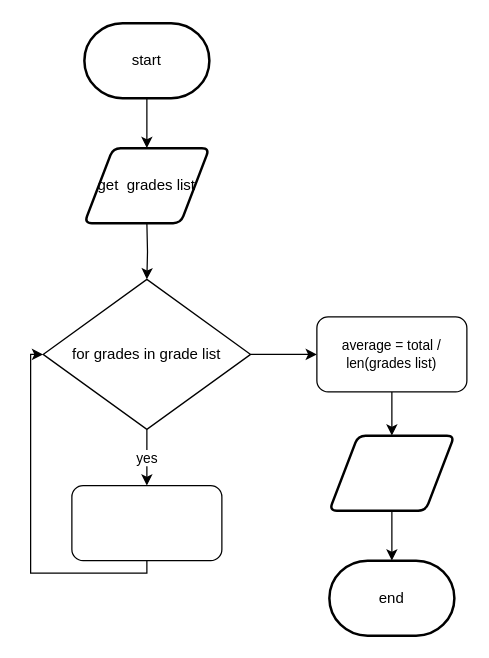
Image size: 489x658. Some labels were removed from this diagram. Each missing label, with the centre of its shape:
"print average" goes at point (391, 472).
"total += grades" goes at point (146, 522).
